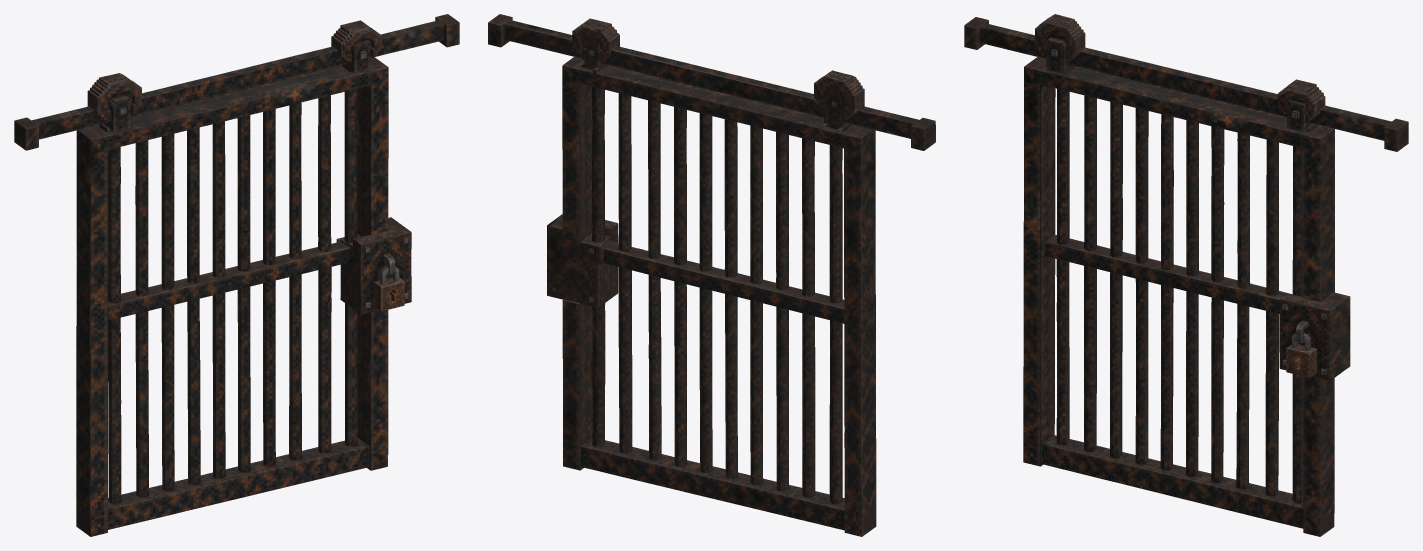
Rendered from Meshy_AI_model.glb.
3 renders of one model, left to right at view 1: azimuth 30°, elevation 25°; view 2: azimuth 150°, elevation 25°; view 3: azimuth 330°, elevation 25°, orthographic.
Bounding box in the file's own units: 1.9 × 1.88 × 0.2282.
1 material, 1 textured.
